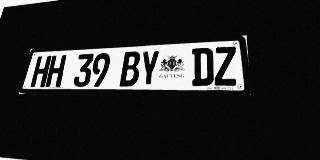3: (73, 54, 94, 87)
9: (89, 53, 111, 87)
B: (119, 51, 141, 87)
D: (192, 47, 214, 86)
H: (45, 55, 67, 87), (30, 56, 52, 87)
Y: (138, 50, 160, 86)
Z: (214, 46, 238, 86)
